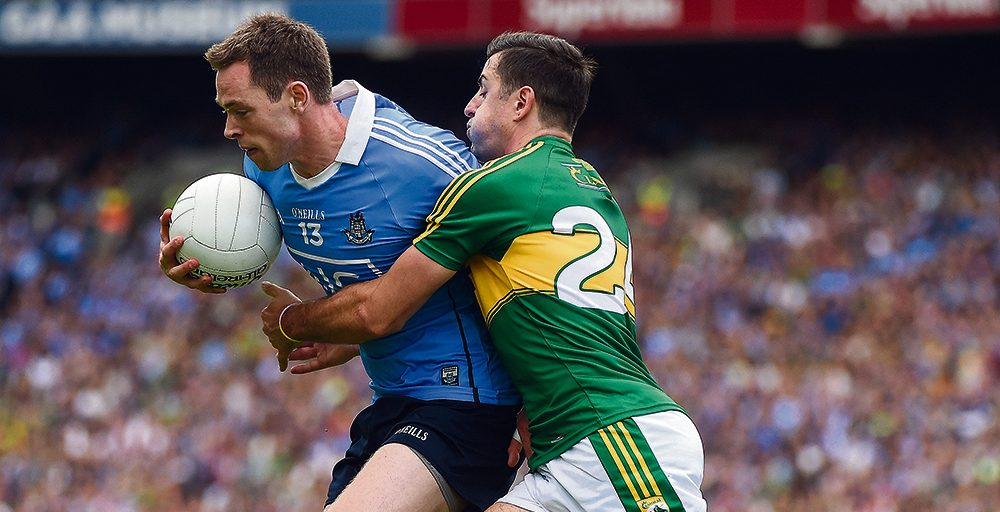player: (206, 21, 493, 485), (430, 28, 692, 505), (161, 172, 290, 289)
